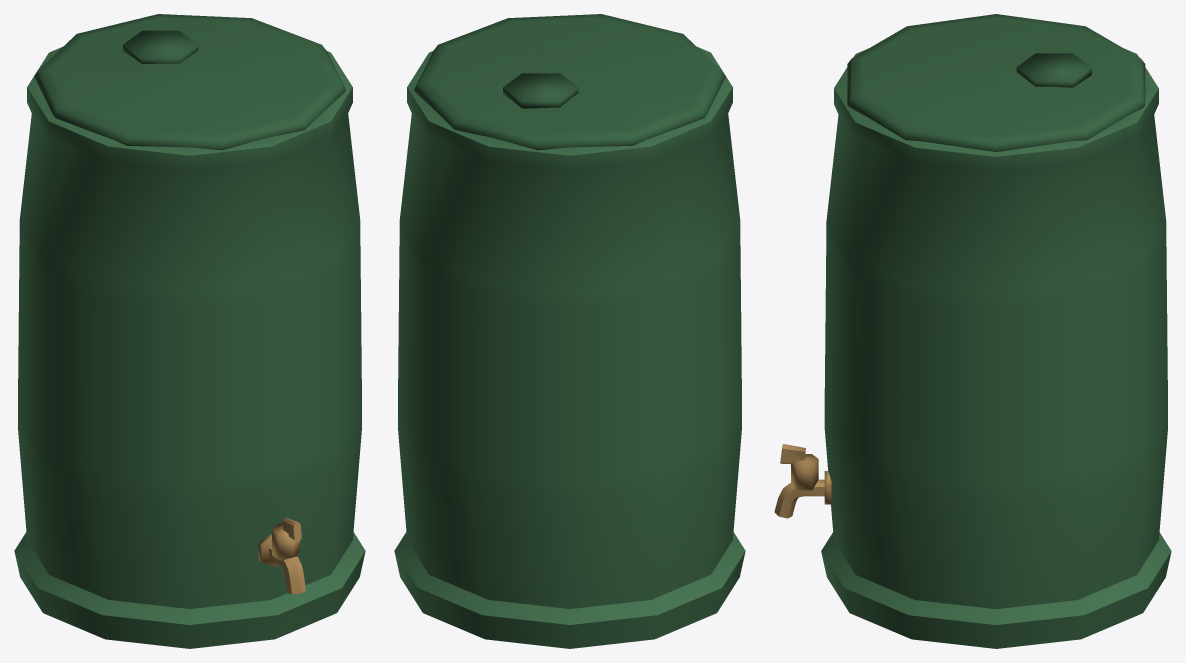
The model's file is rainBarrel.far.glb.
The picture shows the model from 3 angles, left to right: view 1: azimuth 30°, elevation 25°; view 2: azimuth 150°, elevation 25°; view 3: azimuth 270°, elevation 25°; orthographic projection.
Parts seen in each view (by area): view 1: rainBarrel; view 2: rainBarrel; view 3: rainBarrel.
Part boxes in pixels (x1,y1,x2,y2): rainBarrel: [14, 14, 365, 648]; rainBarrel: [394, 14, 745, 648]; rainBarrel: [774, 14, 1171, 648].
Size of the model in its own units: 0.604 by 0.97 by 0.6846.
